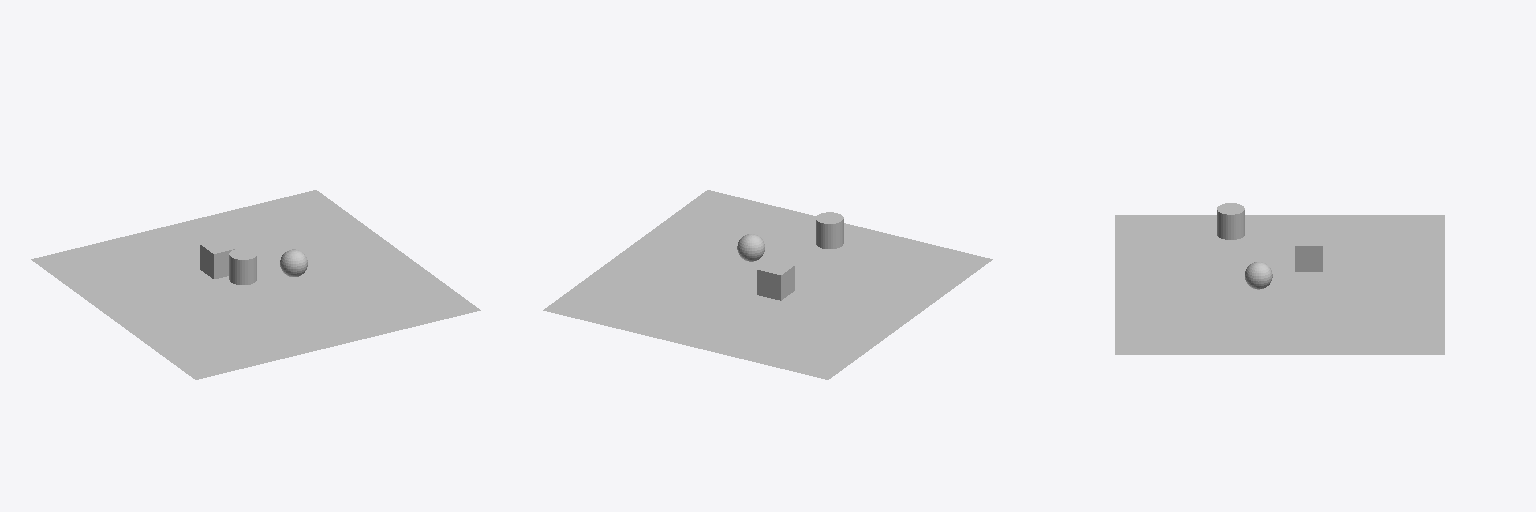
File: BakeScene_full.obj
3 renders of one model, left to right at view 1: azimuth 30°, elevation 25°; view 2: azimuth 150°, elevation 25°; view 3: azimuth 270°, elevation 25°, orthographic.
Visible parts, largest first — view 1: Cylinder; view 2: Cylinder; view 3: Cylinder.
Part boxes in pixels (x1,y1,x2,y2): Cylinder: (31,190,480,379); Cylinder: (543,190,992,379); Cylinder: (1115,203,1444,354).
Bounding box in the file's own units: 23.59 × 4.57 × 23.59.